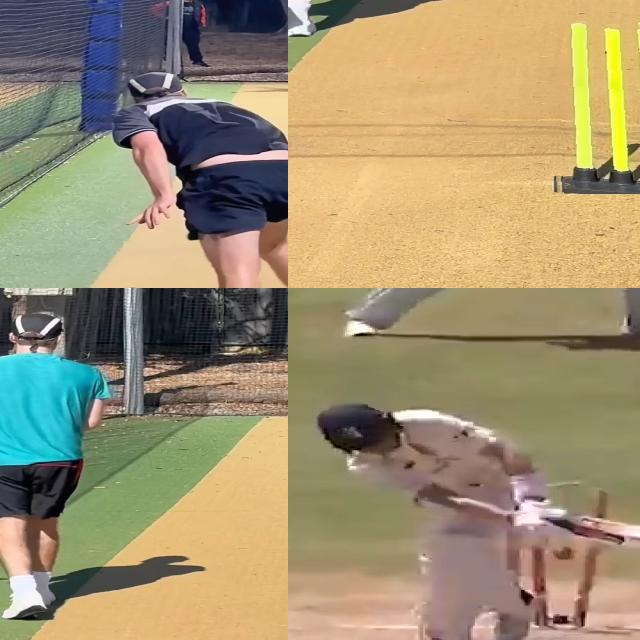Cricket ball: (550, 544, 579, 562)
Stumps: (548, 17, 640, 194)
